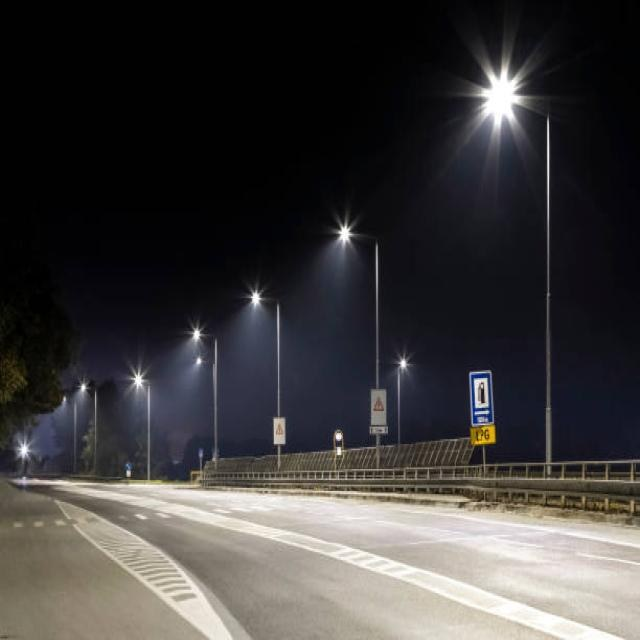acesa: (438, 20, 560, 133), (324, 208, 366, 249), (238, 278, 271, 314), (124, 361, 151, 396), (184, 316, 210, 346), (390, 346, 414, 374), (15, 435, 33, 464)
